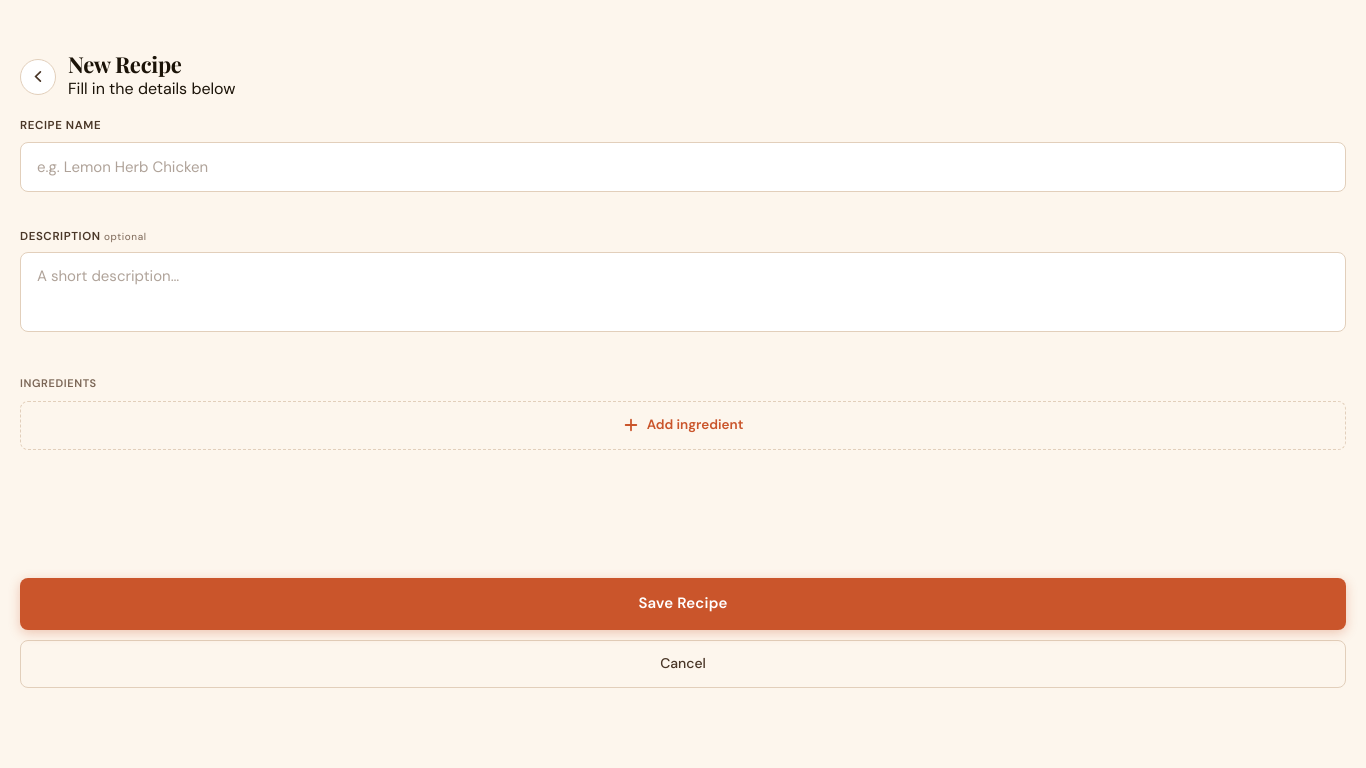
Scenario: RecipeFormPage – create › adds an empty ingredient row when clicking 'Add ingredient'
Click the button "Add ingredient" at (683, 425), box [20,401,1346,450]
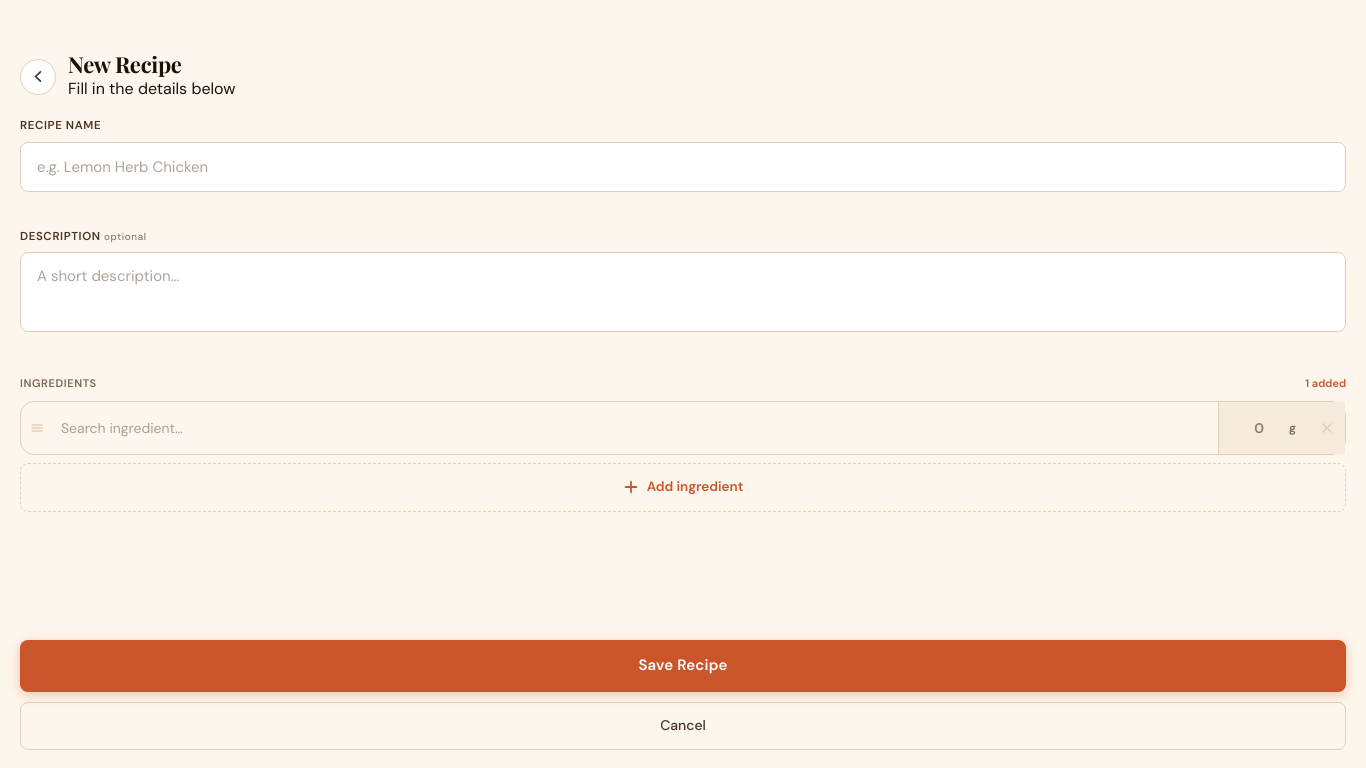
Expected: the dropdown with placeholder "Search ingredient…" is shown, [53,402,1218,454]
